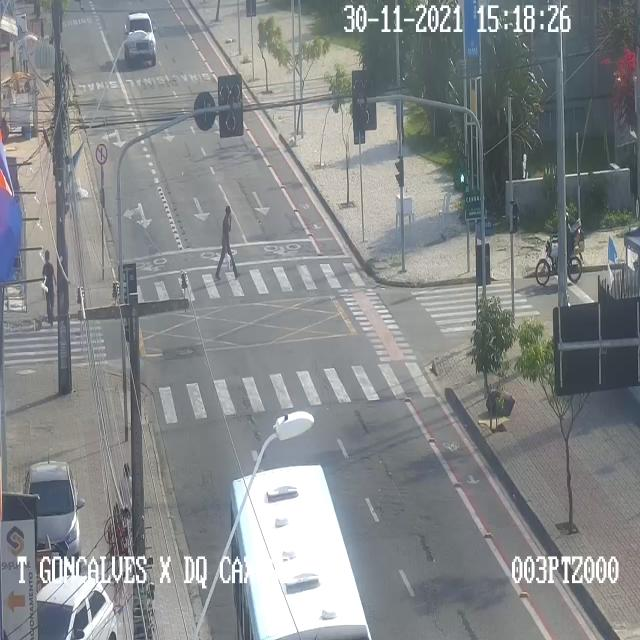Bus: (230, 464, 371, 639)
Car: (24, 461, 80, 571), (36, 575, 116, 639), (124, 12, 156, 64)
Motorcycle: (535, 212, 582, 286)
